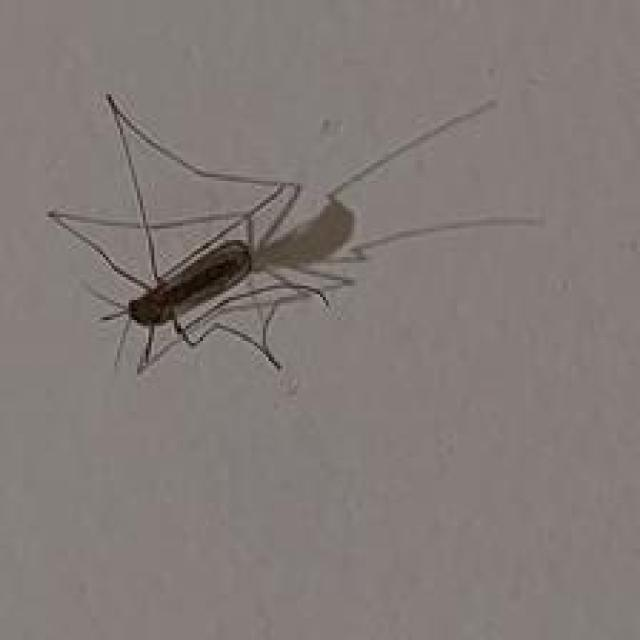Culex: (44, 89, 544, 377)
